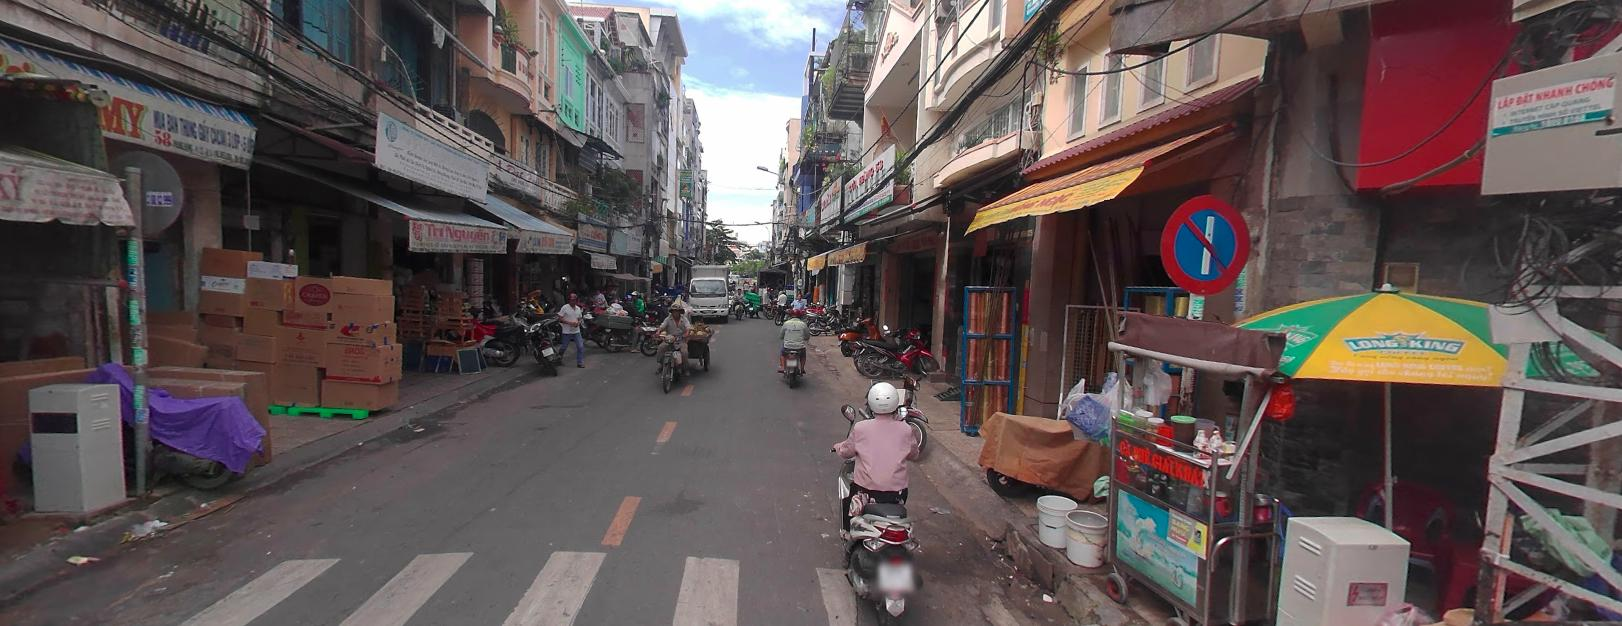Cam dung va do: (1159, 190, 1255, 297)
